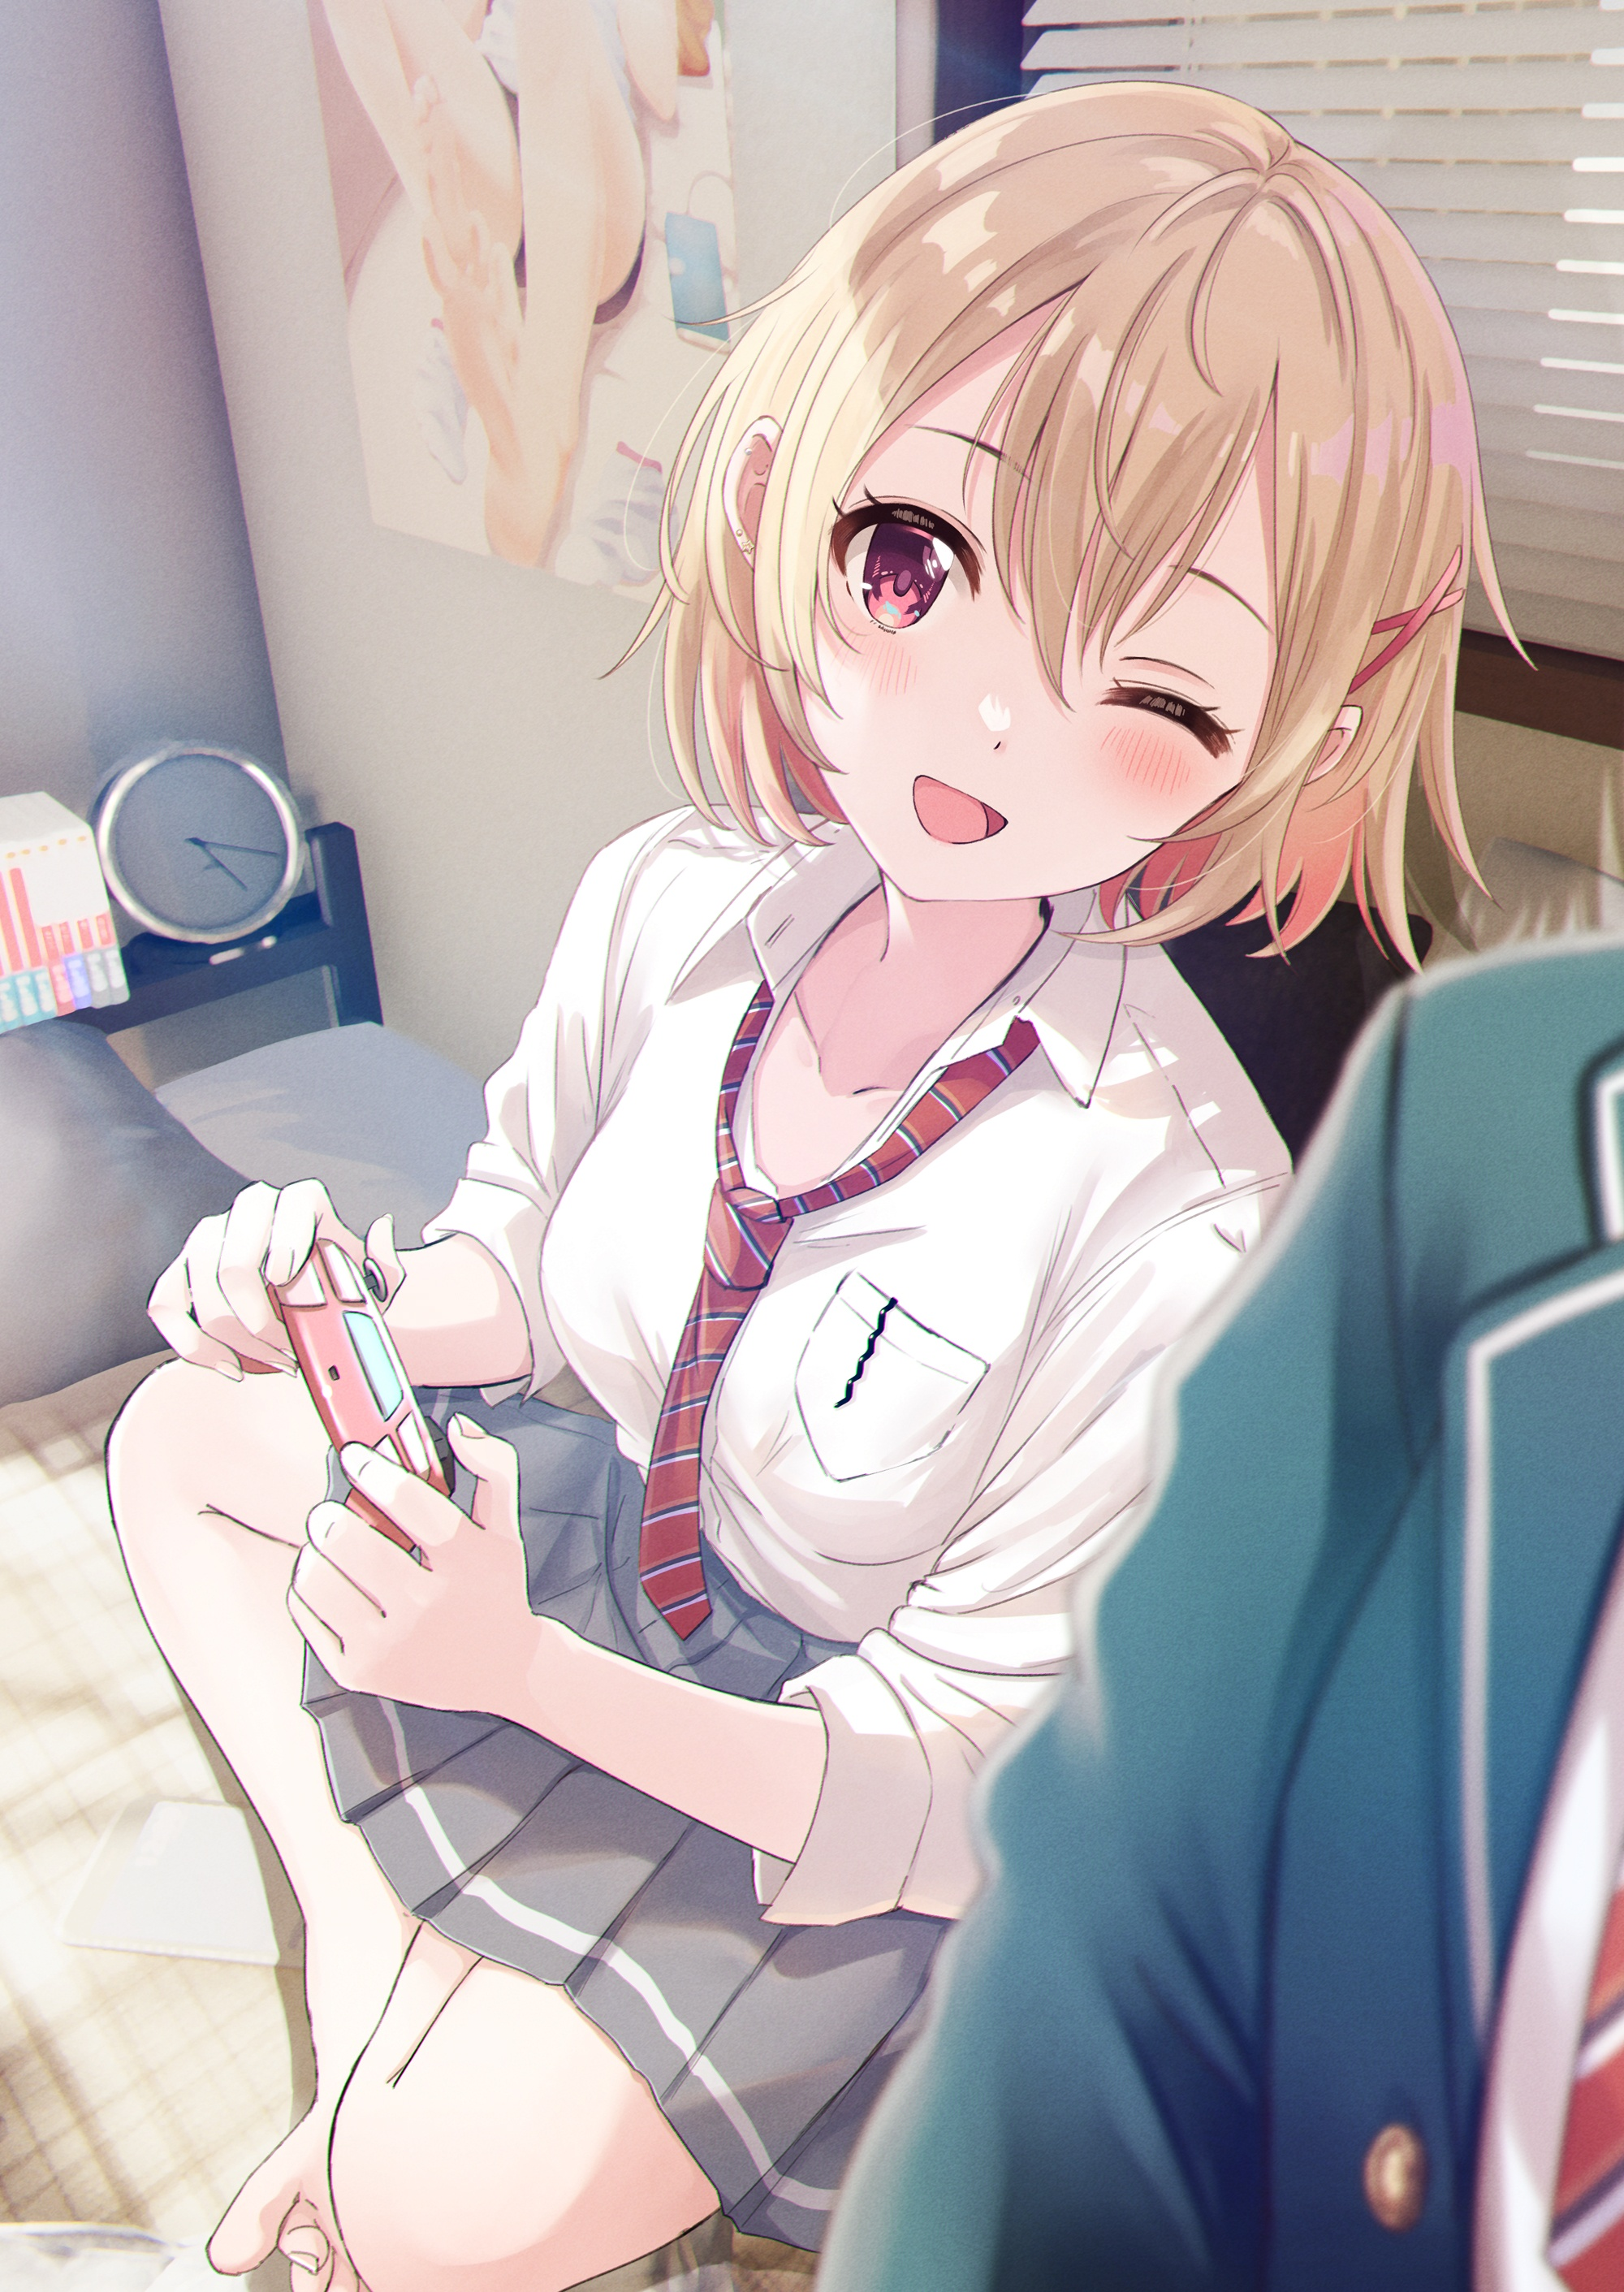纸片人正脸: (650, 59, 1493, 928)
